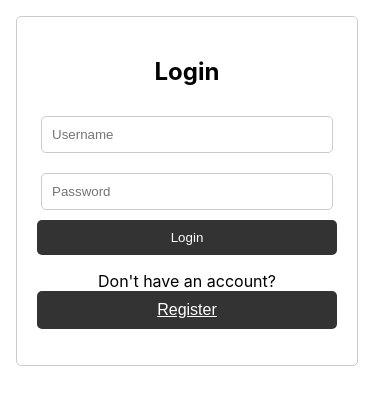
Scenario: AuthPage › ✅ Failed login shows error messages
The width and height of the screenshot is (375, 413).
In the field with placeholder "Username": (187, 134) x1=41 y1=116 x2=333 y2=153, type "wronguser"
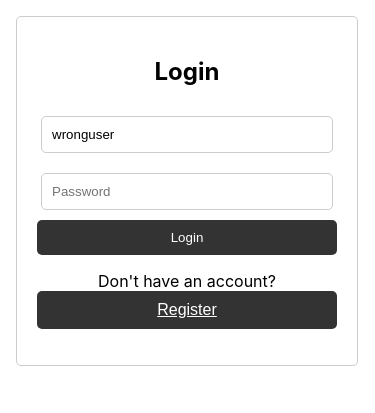
In the password field with placeholder "Password": (187, 191) x1=41 y1=173 x2=333 y2=210, type "wrongpass"
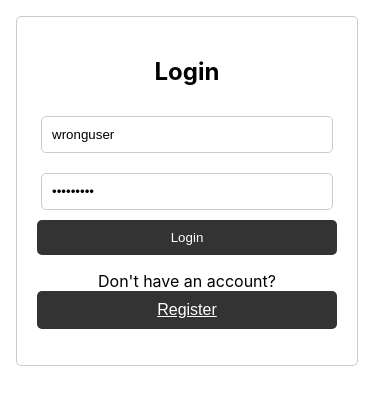
Click the button "Login": (187, 237) x1=37 y1=220 x2=337 y2=255
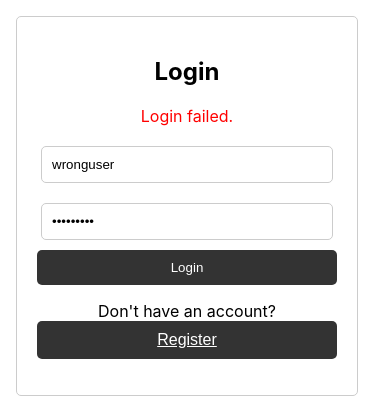
Check: the text "Login failed." is shown, box x1=141 y1=106 x2=233 y2=126
